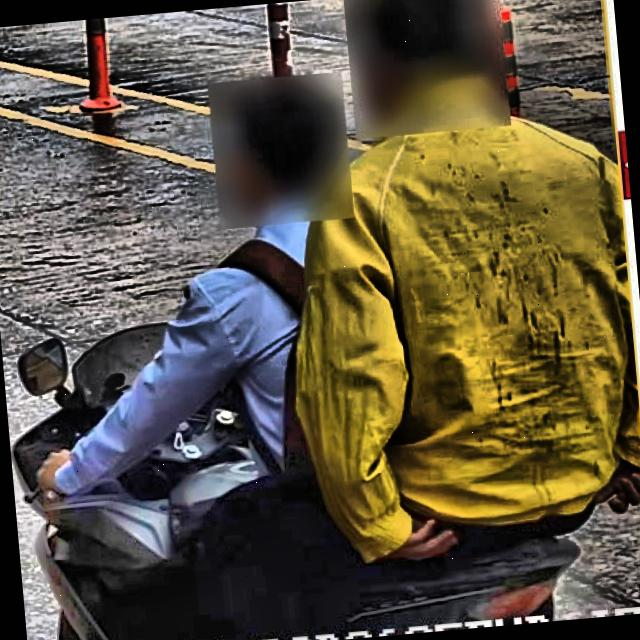motorcycle: (1, 249, 640, 640)
